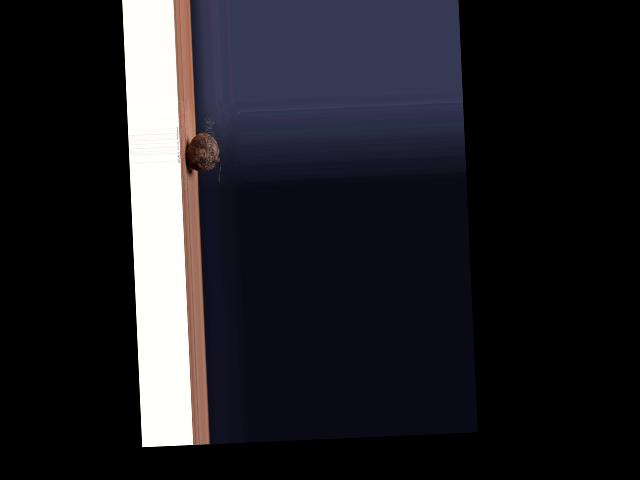beet: (185, 132, 221, 184)
